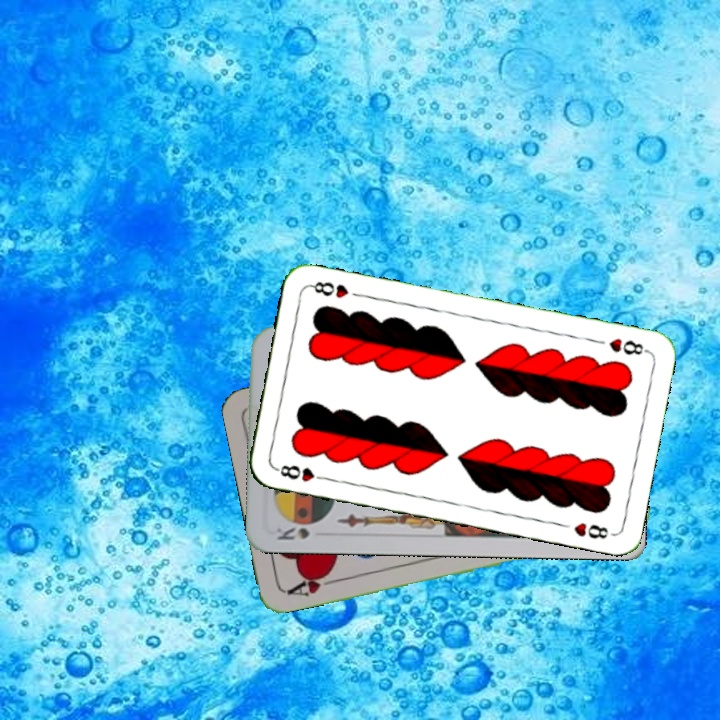H8: (272, 461, 331, 484), (605, 334, 651, 358)
HA: (283, 567, 341, 599)
SK: (270, 523, 312, 543)
